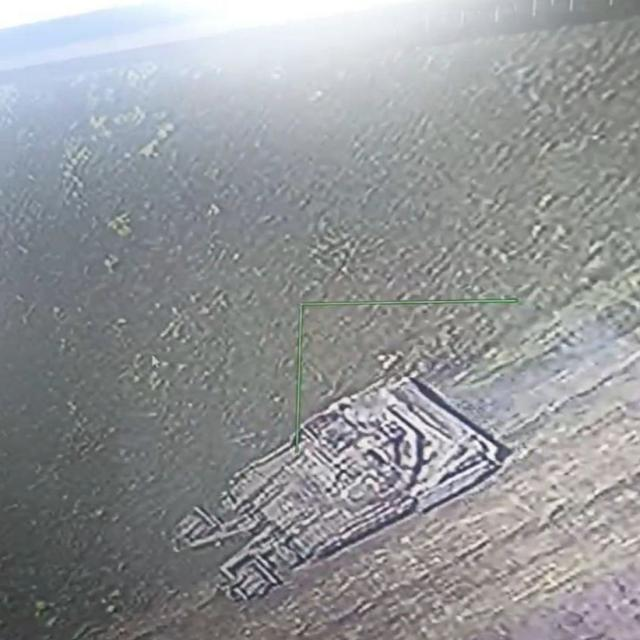vehicle: (167, 378, 506, 598)
